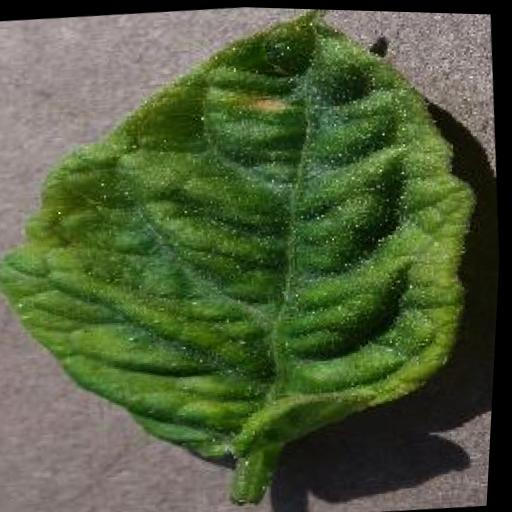Yellow Leaf Curl Virus: (0, 0, 503, 481)
